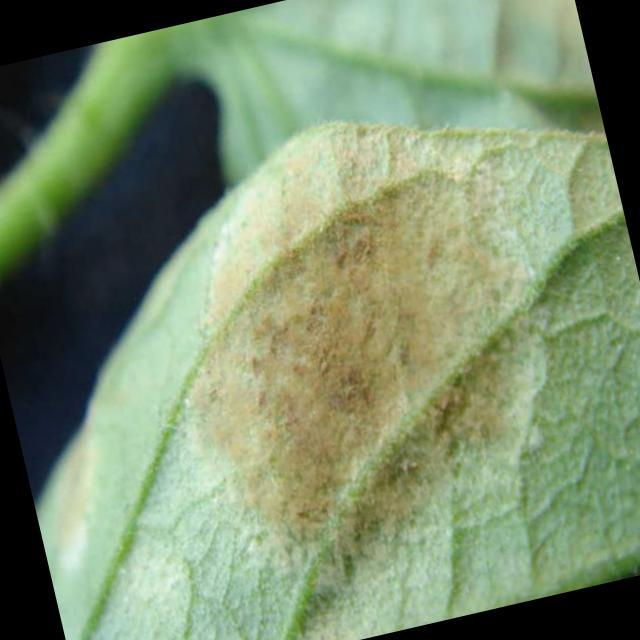Leaf Mold: (107, 77, 639, 590)
